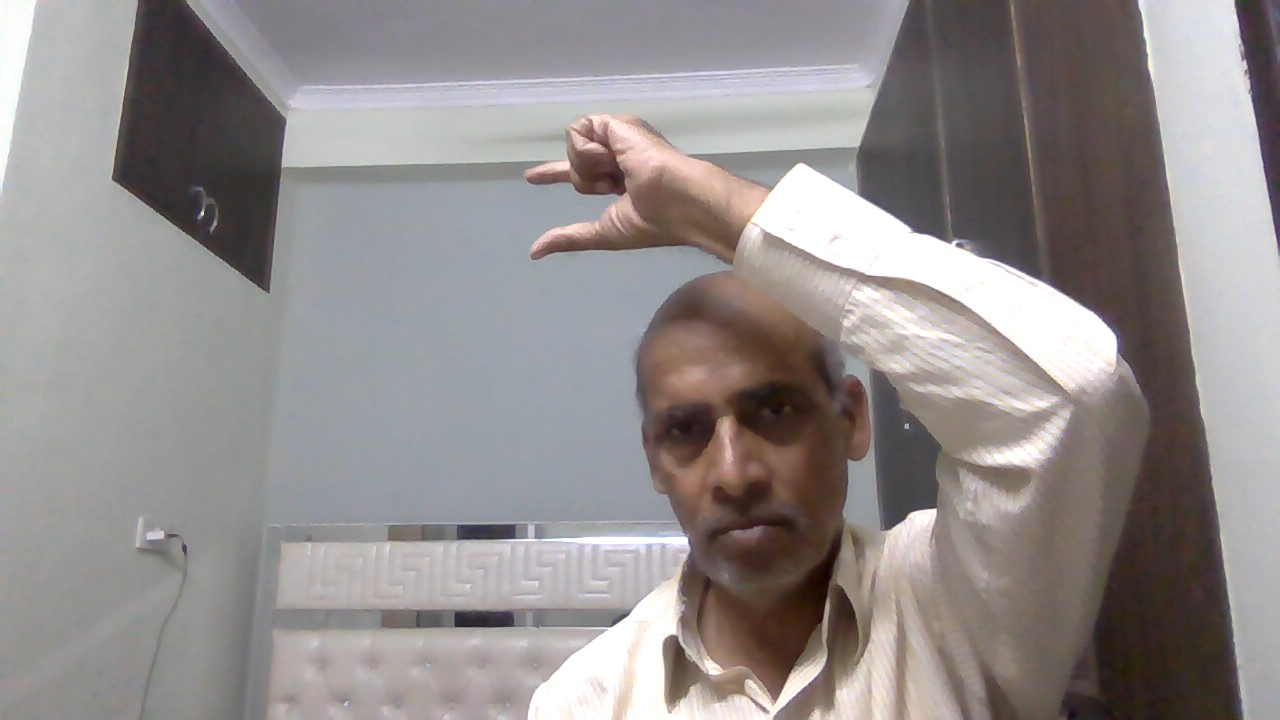Paste: (515, 103, 716, 280)
